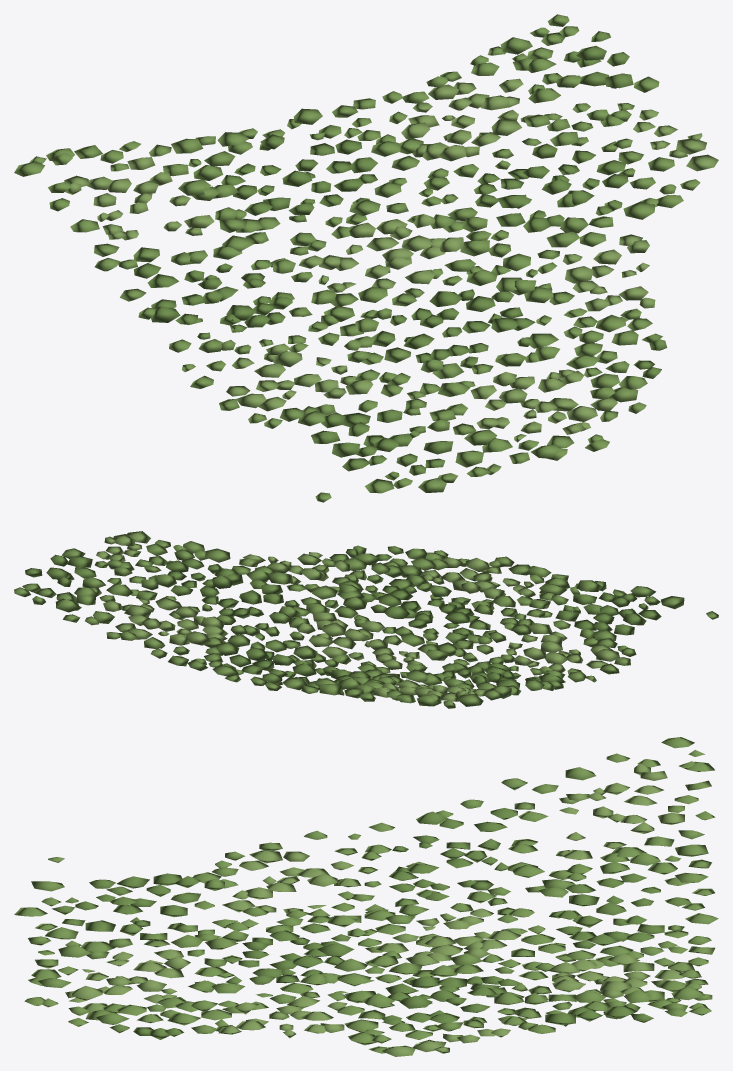
File: canopy-1-0--3.glb
3 renders of one model, top to bottom at view 1: azimuth 30°, elevation 25°; view 2: azimuth 150°, elevation 25°; view 3: azimuth 270°, elevation 25°, orthographic. The views are drawn at different scales.
Bounding box in the file's own units: 515 × 115 × 518.
1 material, 1 textured.
